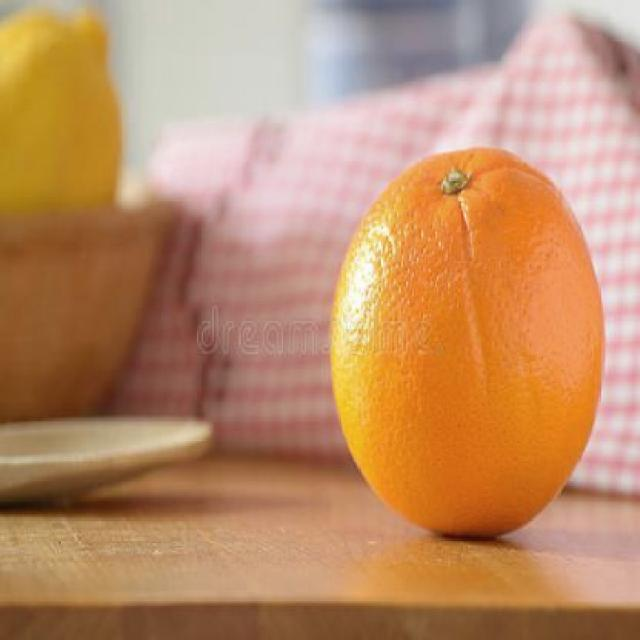Jeruk Sudah Matang: (328, 145, 607, 538)
